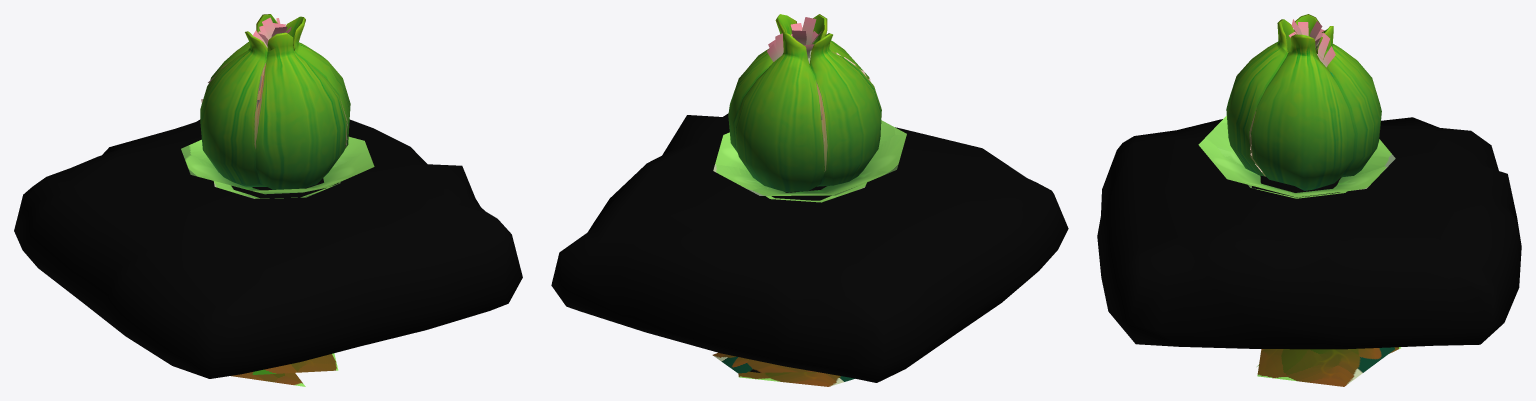
Rendered from hvs_plantables_potato_pose0.fbx.
3 renders of one model, left to right at view 1: azimuth 30°, elevation 25°; view 2: azimuth 150°, elevation 25°; view 3: azimuth 270°, elevation 25°, orthographic.
Parts seen in each view (by area): view 1: hvs_plantavles_potatoplant_pose0; view 2: hvs_plantavles_potatoplant_pose0; view 3: hvs_plantavles_potatoplant_pose0.
Part boxes in pixels (box(x1,y1,x2,y2)): hvs_plantavles_potatoplant_pose0: box(14, 14, 522, 386); hvs_plantavles_potatoplant_pose0: box(551, 14, 1068, 386); hvs_plantavles_potatoplant_pose0: box(1097, 14, 1521, 386).
Bounding box in the file's own units: 3.76 × 3.42 × 3.83.
